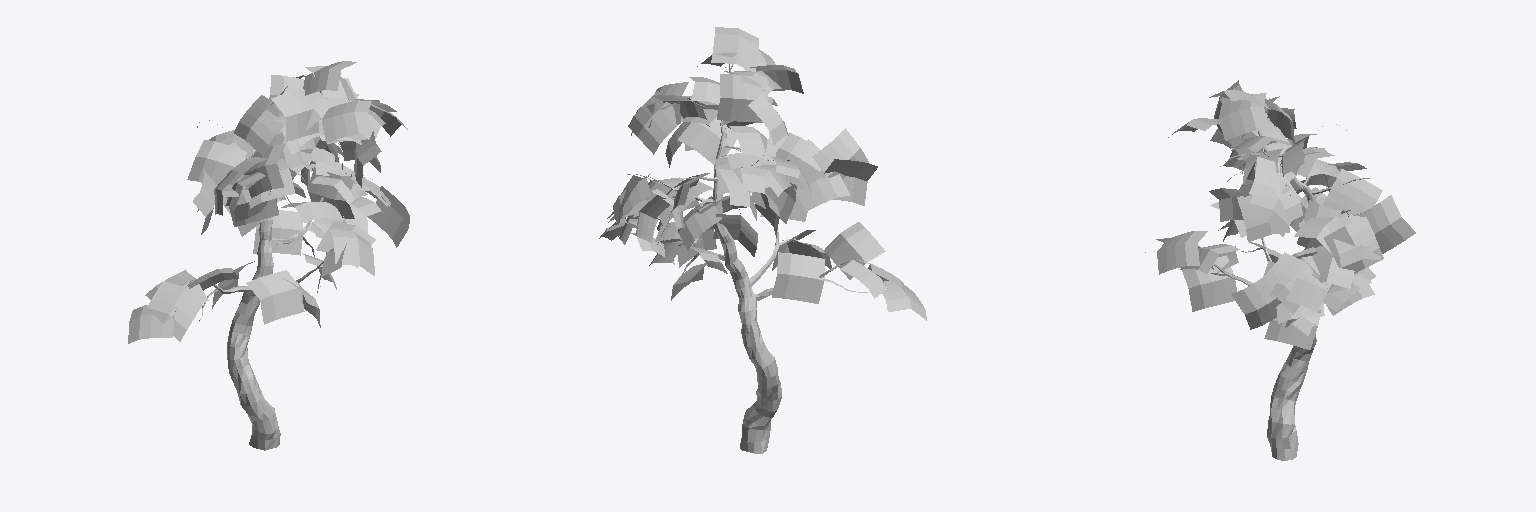
The model's file is mountain_trees5.obj.
3 renders of one model, left to right at view 1: azimuth 30°, elevation 25°; view 2: azimuth 150°, elevation 25°; view 3: azimuth 270°, elevation 25°, orthographic.
Visible parts, largest first — view 1: foliage, structure.001; view 2: foliage, structure.001; view 3: foliage, structure.001.
Boxes of the visible parts, x1=… form: foliage: x1=128, y1=61, x2=409, y2=343; structure.001: x1=173, y1=76, x2=372, y2=450; foliage: x1=599, y1=27, x2=926, y2=320; structure.001: x1=609, y1=64, x2=870, y2=453; foliage: x1=1156, y1=80, x2=1415, y2=349; structure.001: x1=1145, y1=98, x2=1369, y2=460.
Bounding box in the file's own units: 14.28 × 18.3 × 11.74.